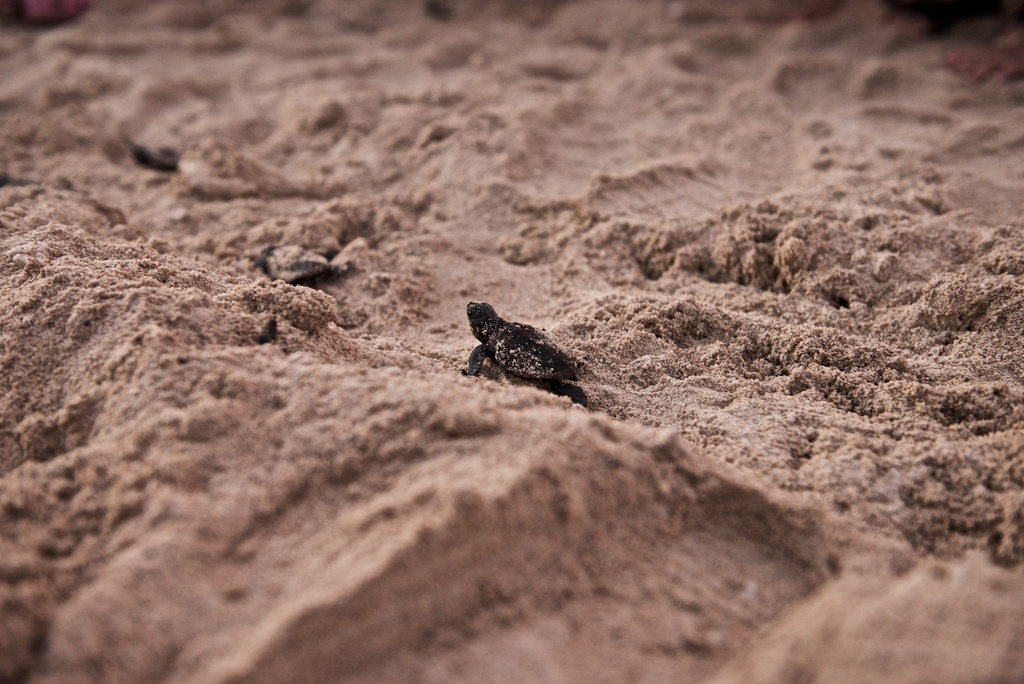Sea turtles: (461, 298, 592, 412), (246, 237, 341, 282)
